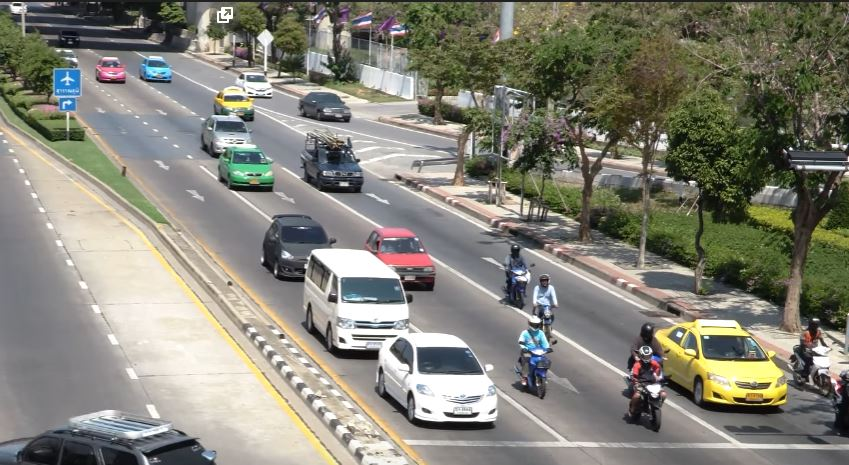Bus: (300, 248, 410, 353)
Car: (650, 316, 790, 416), (373, 328, 505, 432), (263, 213, 336, 281), (365, 226, 437, 292), (302, 127, 365, 193), (216, 144, 276, 194), (199, 113, 254, 159), (299, 88, 354, 123), (211, 85, 254, 121), (237, 70, 273, 98), (140, 56, 172, 83), (95, 56, 125, 83)
Motorcycle: (623, 348, 674, 428), (790, 318, 835, 396), (518, 314, 554, 398), (632, 324, 666, 383), (531, 271, 561, 337), (503, 244, 531, 306)
